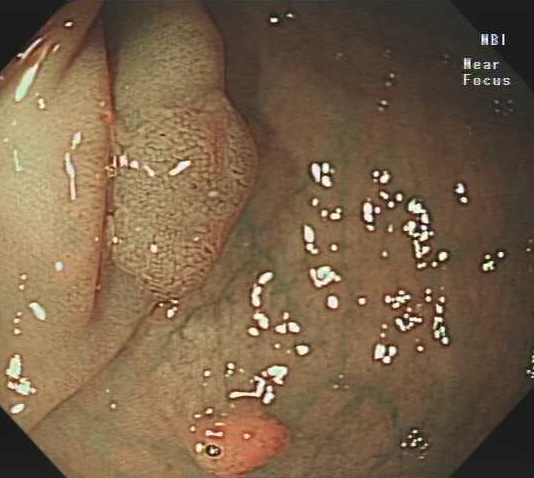adenoma: (107, 87, 261, 300)
